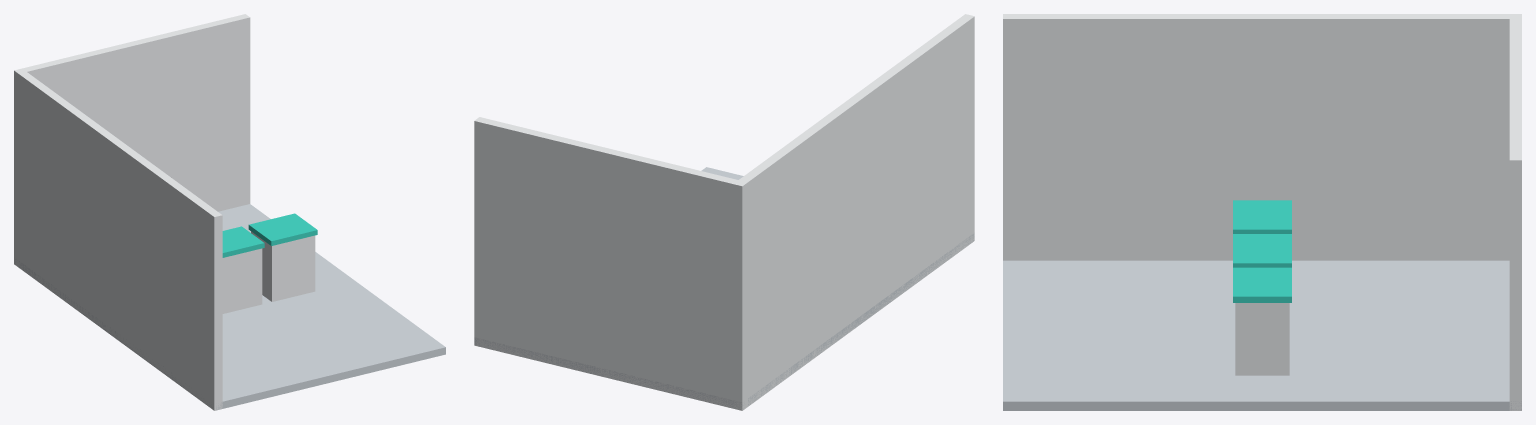
3 views of the same model, side by side, from view 1: azimuth 30°, elevation 25°; view 2: azimuth 150°, elevation 25°; view 3: azimuth 270°, elevation 25° (orthographic). The views are drawn at different scales.
Visible parts, largest first — view 1: Exhibition Booth Concept; view 2: Exhibition Booth Concept; view 3: Exhibition Booth Concept.
Part boxes in pixels (x1,y1,x2,y2): Exhibition Booth Concept: (14,14,445,410); Exhibition Booth Concept: (474,14,974,410); Exhibition Booth Concept: (1003,14,1521,410).
Bounding box in the file's own units: 4 × 3.2 × 6.
